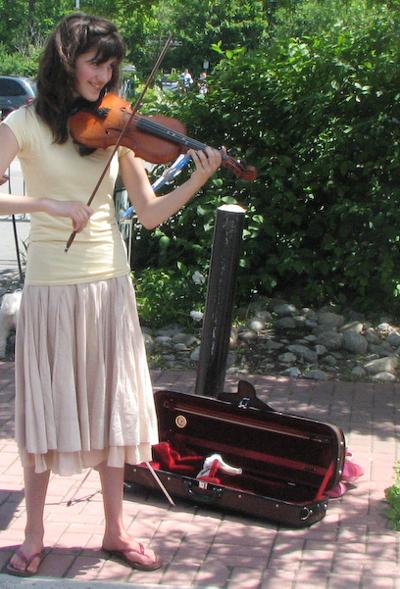person: (1, 15, 223, 575)
